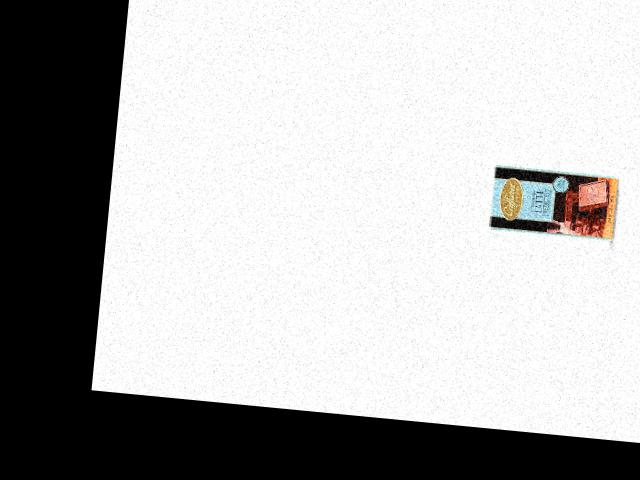chocolate: (487, 163, 620, 243)
